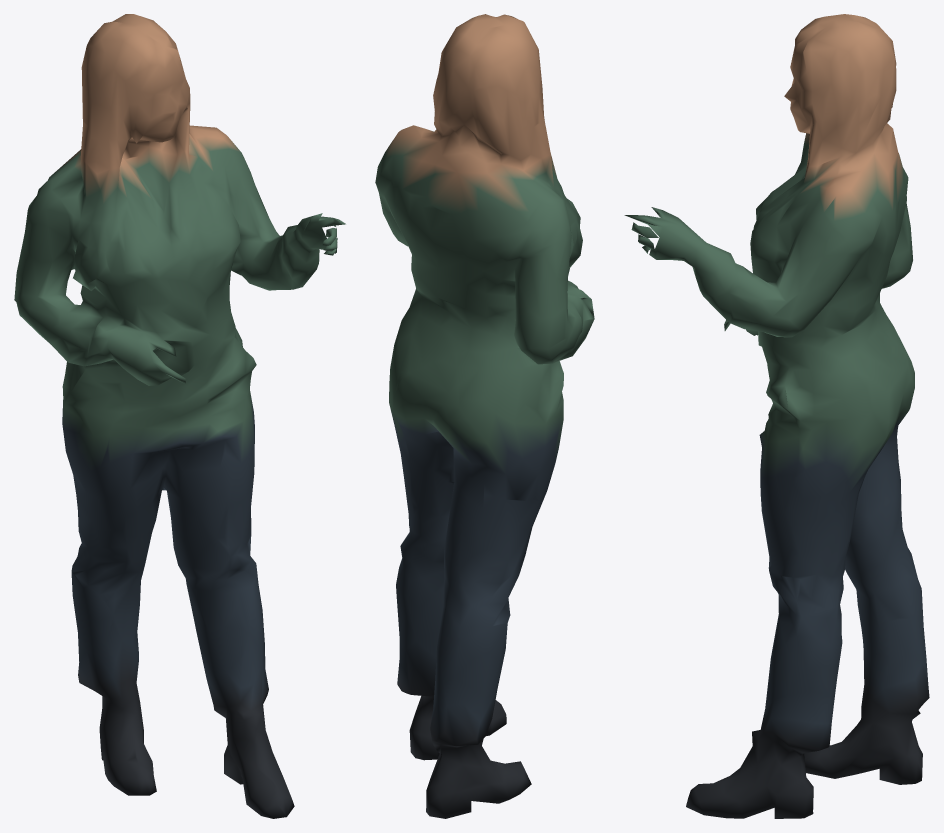
File: people_typ6_stand.glb
3 views of the same model, side by side, from view 1: azimuth 30°, elevation 25°; view 2: azimuth 150°, elevation 25°; view 3: azimuth 270°, elevation 25° (orthographic). The views are drawn at different scales.
Parts seen in each view (by area): view 1: people_typ6_stand-mesh; view 2: people_typ6_stand-mesh; view 3: people_typ6_stand-mesh.
Part boxes in pixels (x1,y1,x2,y2): people_typ6_stand-mesh: (14,14,345,818); people_typ6_stand-mesh: (375,14,594,818); people_typ6_stand-mesh: (624,14,929,818).
Size of the model in its own units: 0.5381 by 1.76 by 0.6486.
